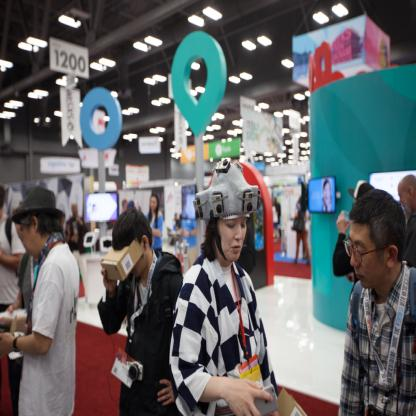Helmet: (199, 164, 265, 258)
